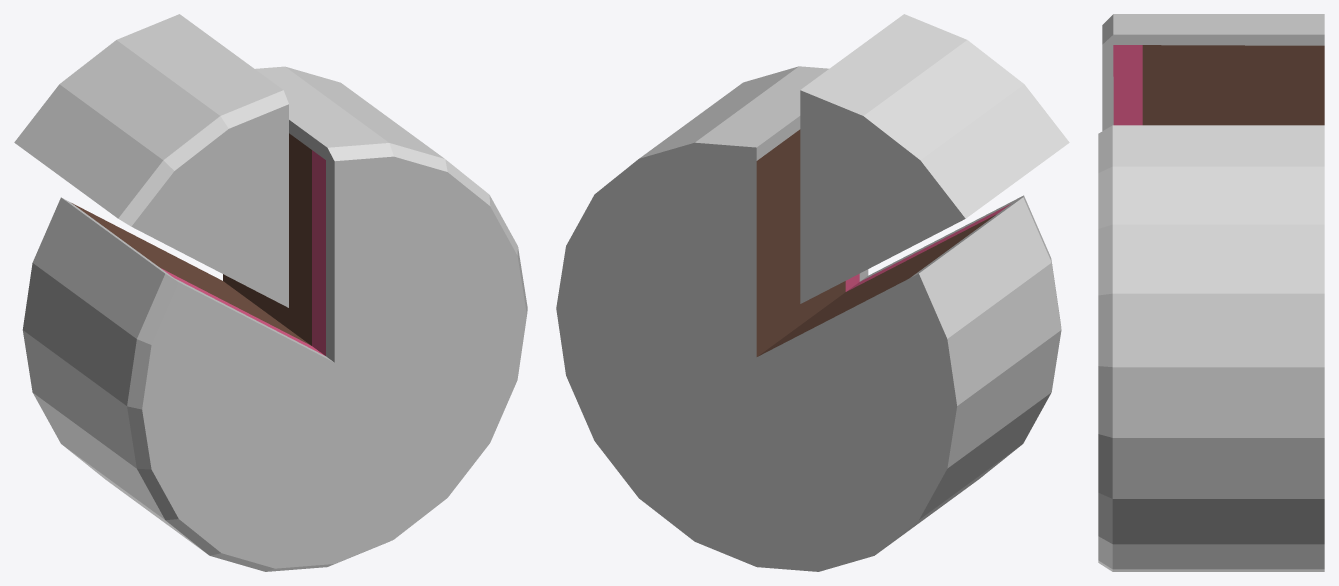
Rendered from 2WvdDP8C3a5.glb.
The picture shows the model from 3 angles, left to right: view 1: azimuth 30°, elevation 25°; view 2: azimuth 150°, elevation 25°; view 3: azimuth 270°, elevation 25°; orthographic projection.
Visible parts, largest first — view 1: pCylinder30; view 2: pCylinder30; view 3: pCylinder30.
Boxes of the visible parts, bbox=[...] form: pCylinder30: bbox=[14, 14, 527, 571]; pCylinder30: bbox=[556, 14, 1069, 571]; pCylinder30: bbox=[1098, 14, 1324, 571].
Bounding box in the file's own units: 0.8789 × 1 × 0.4145.
